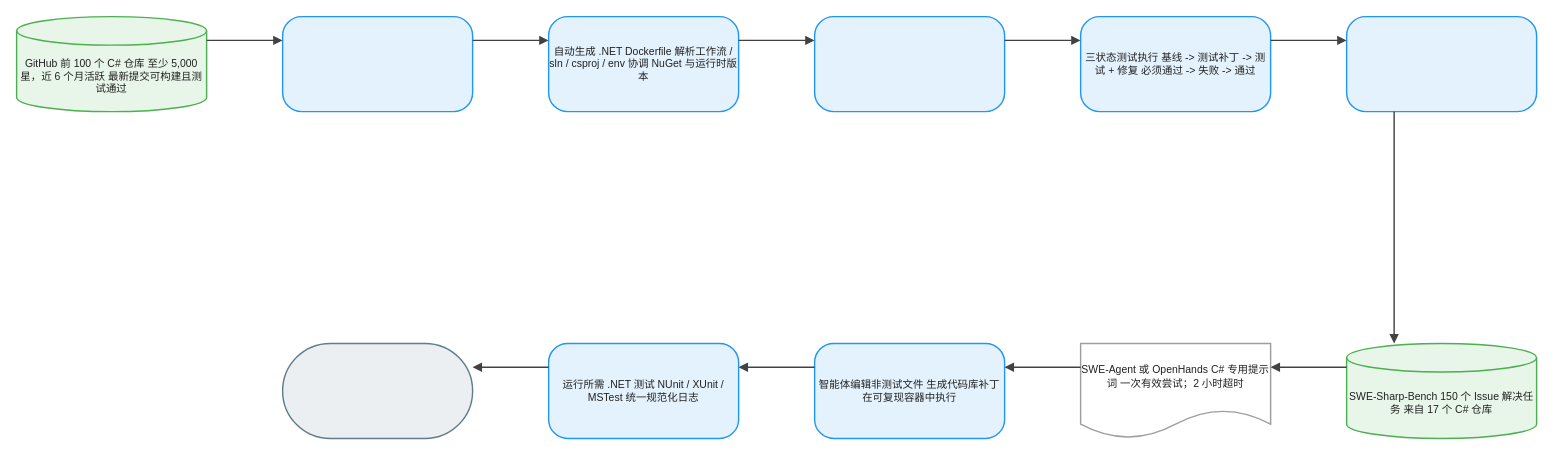
Image size: 1554x456. Some labels were removed from this diagram. The centre of each missing label's shape, as x and y in pixels:
"两位作者人工复核 检查问题陈述是否充分 排除狭窄或不相关测试" goes at point 1441,63.
"实例解决成功 生成补丁通过全部测试 指标：问题解决率" goes at point 377,390.
"构建并启动容器 最小修复环境配置失败 否则丢弃该 PR" goes at point 909,63.
"每仓库抓取最新 1,000 条 PR 关联 Issue 且修改测试文件 已合并到默认分支" goes at point 377,63.
